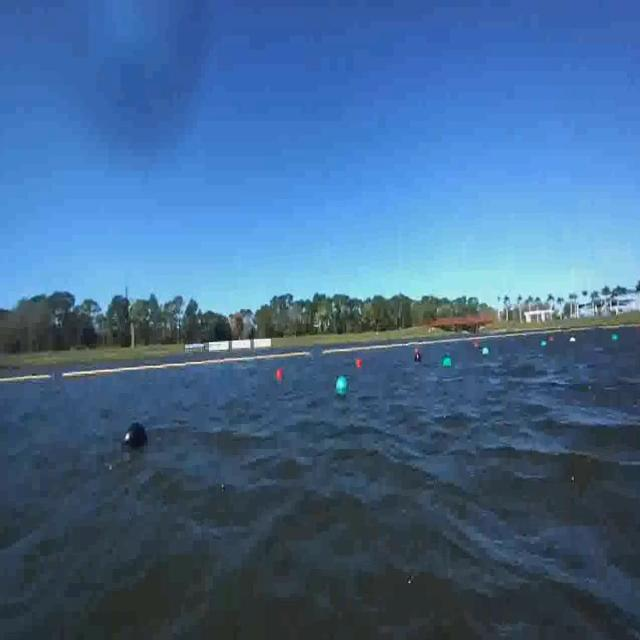black-buoy: (124, 421, 148, 449)
green-buoy: (337, 373, 350, 394), (444, 356, 453, 368)
red-buoy: (272, 356, 283, 386), (357, 359, 362, 368)
